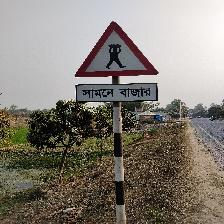Market-in-front: (74, 21, 160, 105)
